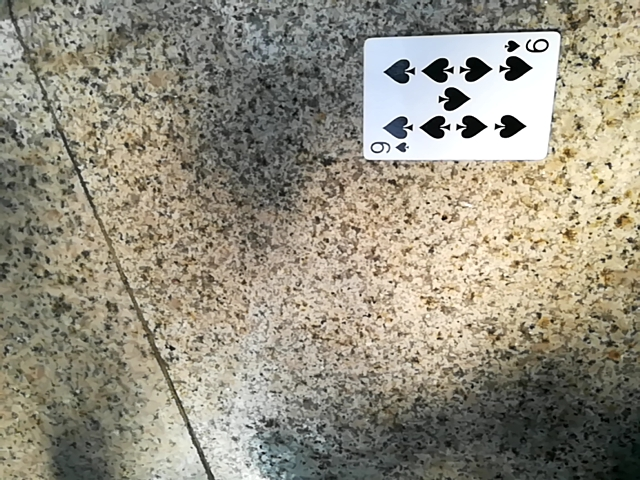ht 9: (362, 30, 557, 161)
